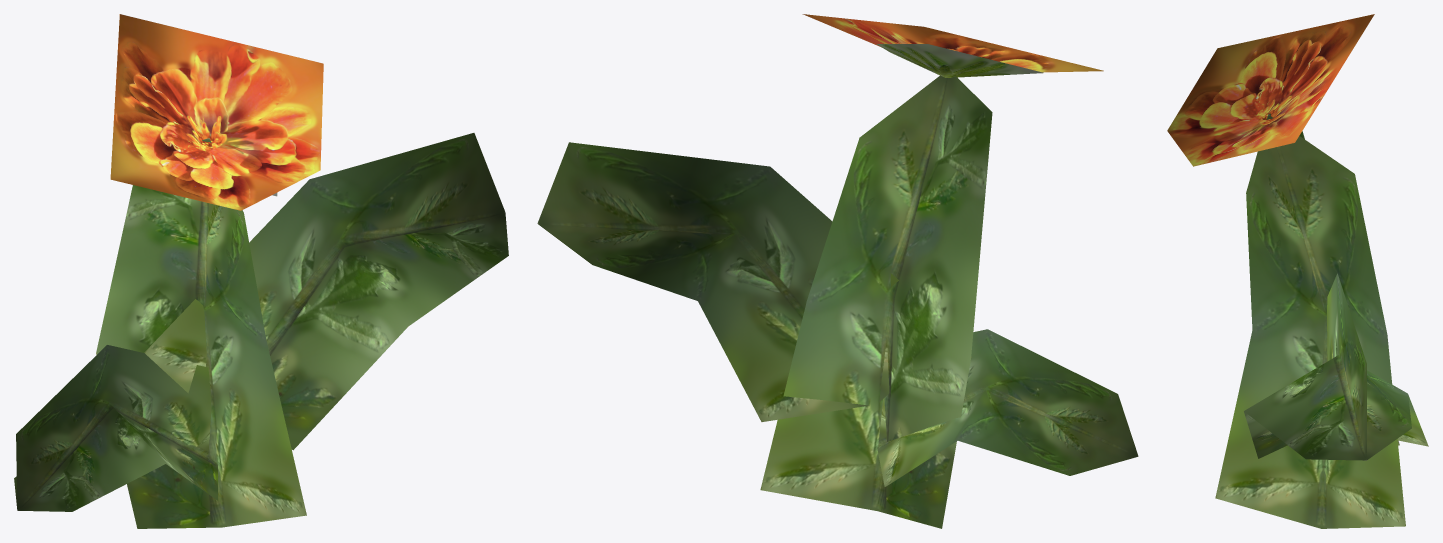
Rendered from Marigold.fbx.
3 renders of one model, left to right at view 1: azimuth 30°, elevation 25°; view 2: azimuth 150°, elevation 25°; view 3: azimuth 270°, elevation 25°, orthographic. The views are drawn at different scales.
Parts seen in each view (by area): view 1: LOD0; view 2: LOD0; view 3: LOD0.
Part boxes in pixels (x1,y1,x2,y2): LOD0: (14,14,508,528); LOD0: (537,14,1138,528); LOD0: (1167,14,1428,528).
Size of the model in its own units: 1.34 by 1.21 by 0.5988.
